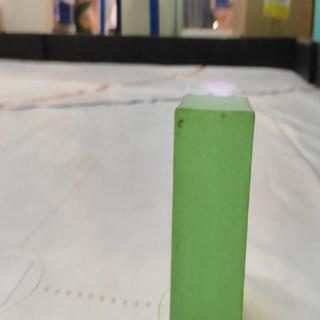greenbox: (171, 93, 255, 320)
